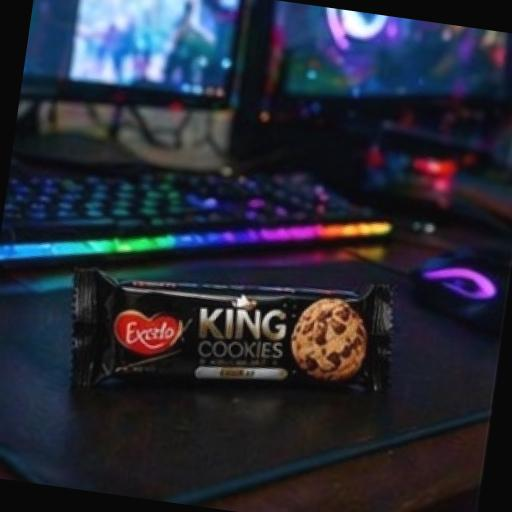king_cooking: (76, 273, 432, 430)
